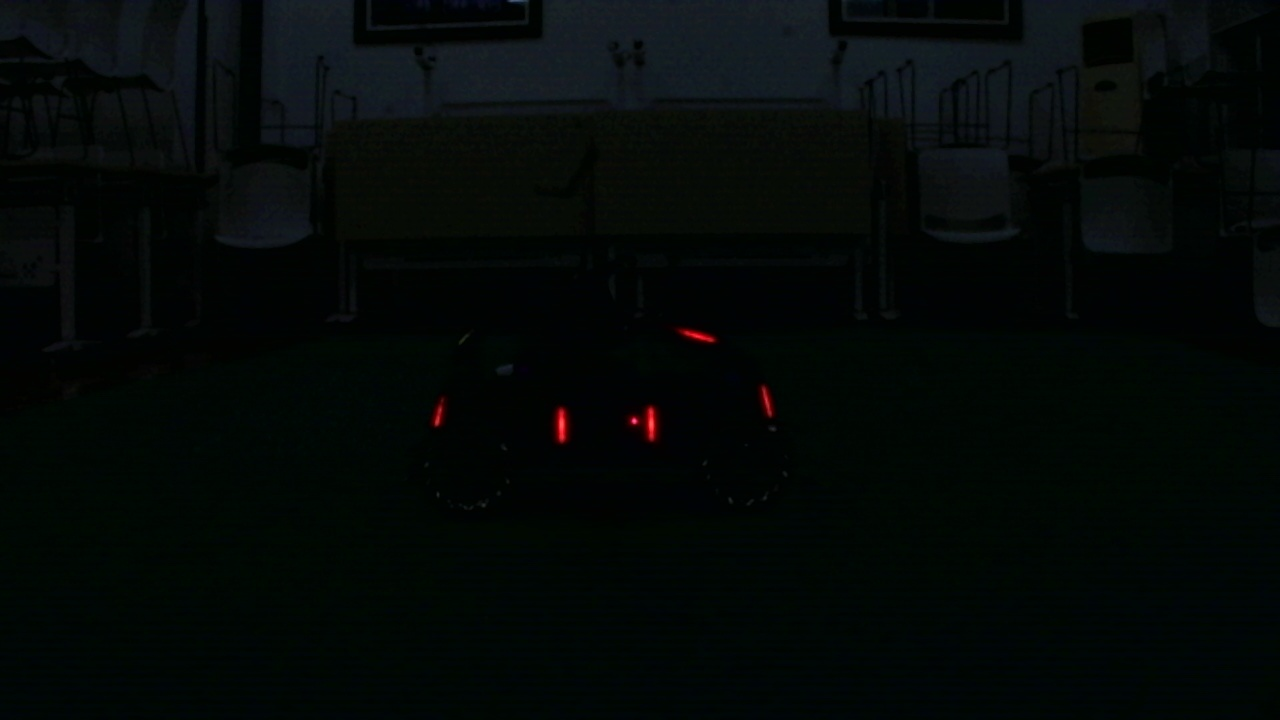lamp: (644, 402, 659, 440), (759, 388, 776, 418), (430, 397, 444, 433), (555, 405, 568, 442)
pair1: (557, 407, 659, 438)
